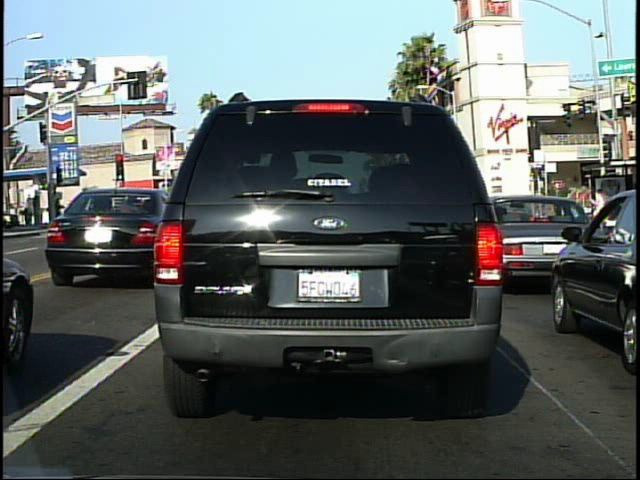person: (588, 184, 610, 244)
